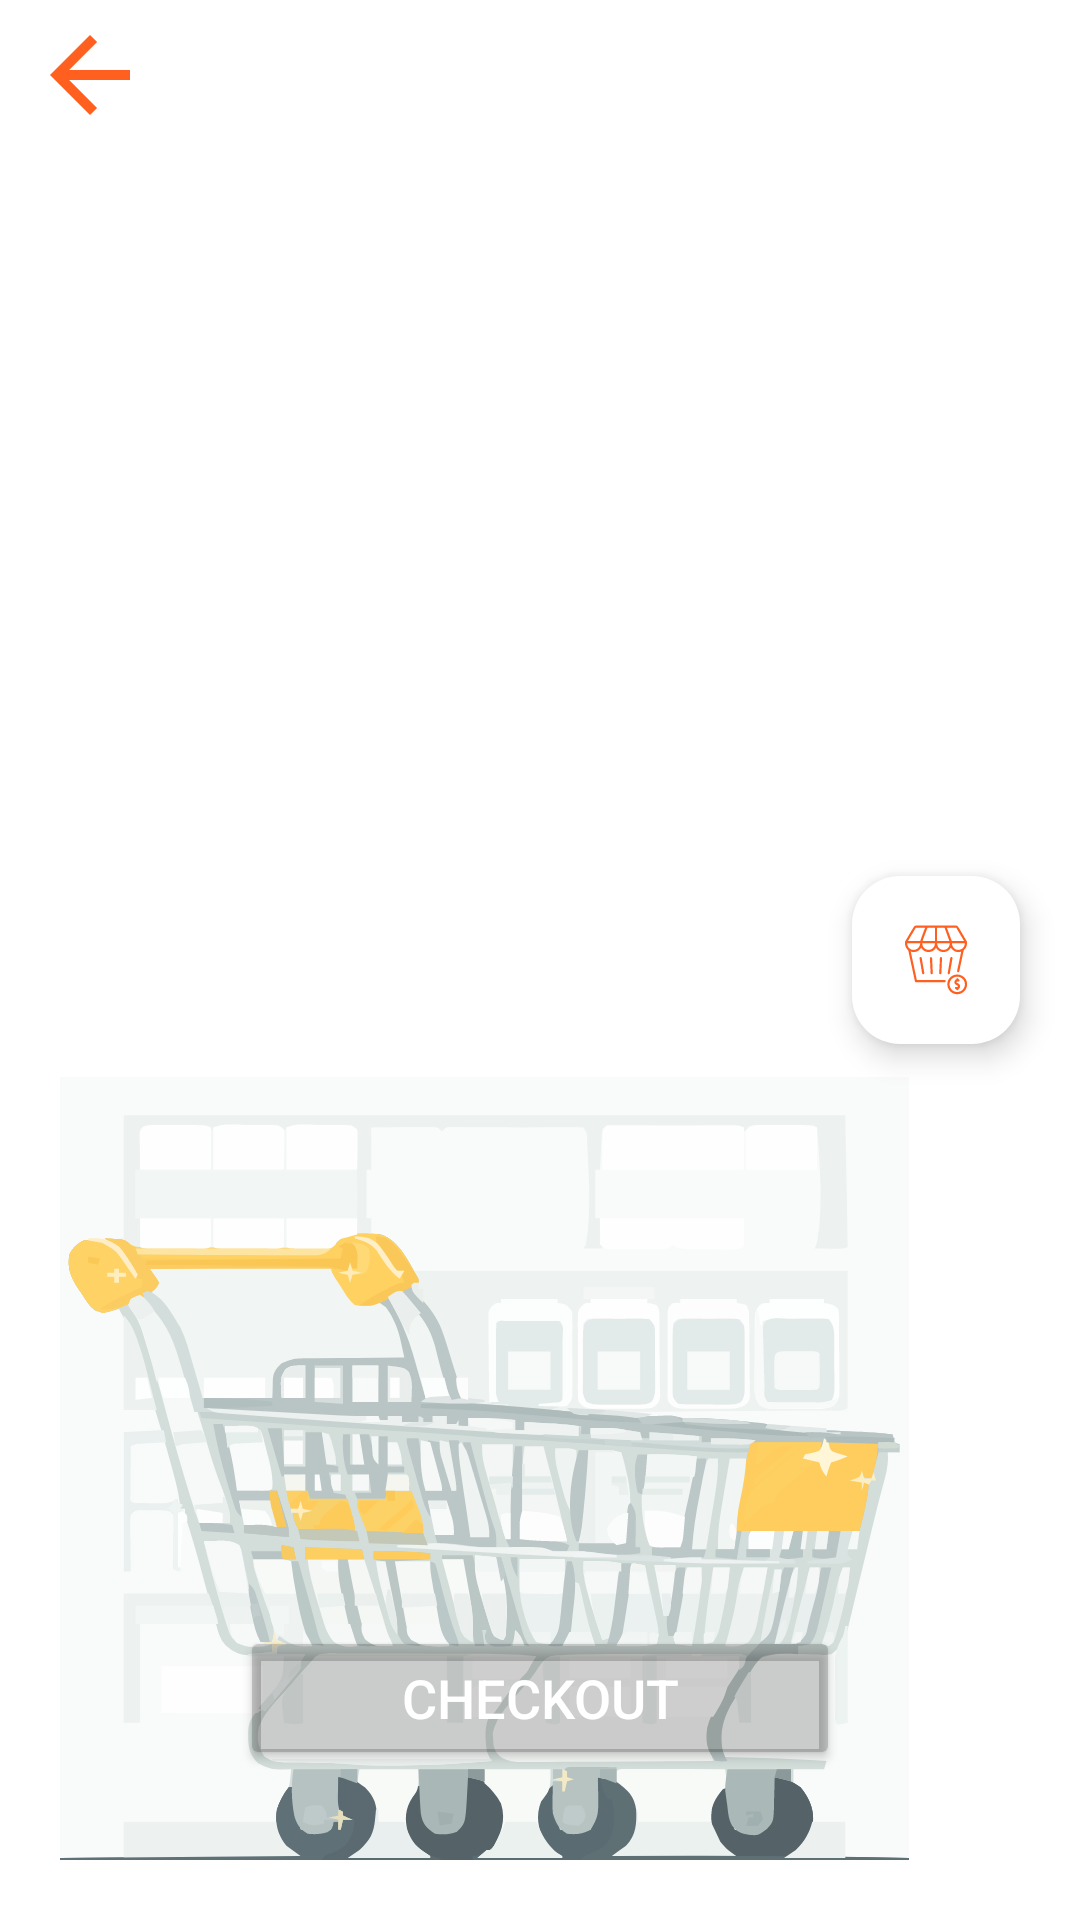

Point at icon controls on the screen. Image size 1080 x 1920, points as point (x, y).
arrow back: point (90, 75)
orders: point (936, 960)
